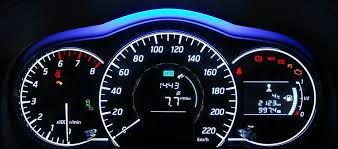Digital_Meter: (139, 70, 196, 123), (243, 84, 293, 116)
